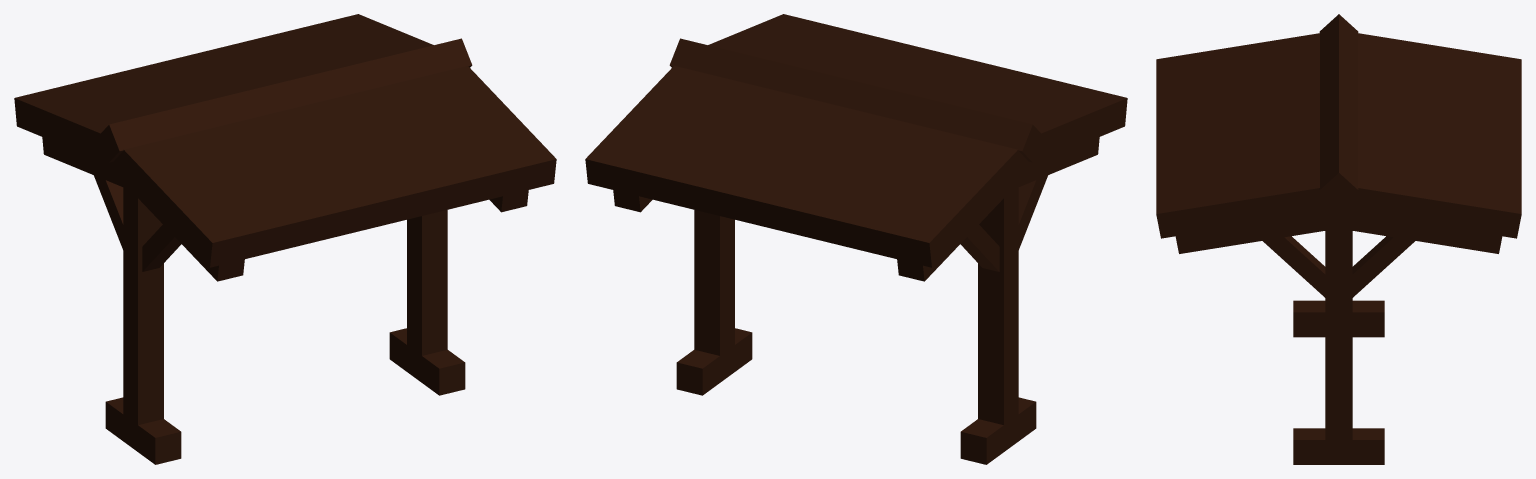
Rendered from Well-Roof.FBX.
The picture shows the model from 3 angles, left to right: view 1: azimuth 30°, elevation 25°; view 2: azimuth 150°, elevation 25°; view 3: azimuth 270°, elevation 25°; orthographic projection. The views are drawn at different scales.
Parts seen in each view (by area): view 1: Well-Roof; view 2: Well-Roof; view 3: Well-Roof.
Part boxes in pixels (<box>): Well-Roof: <box>14,14,556,464</box>; Well-Roof: <box>585,14,1127,464</box>; Well-Roof: <box>1156,14,1521,464</box>.
Size of the model in its own units: 41 by 39.91 by 36.38.
